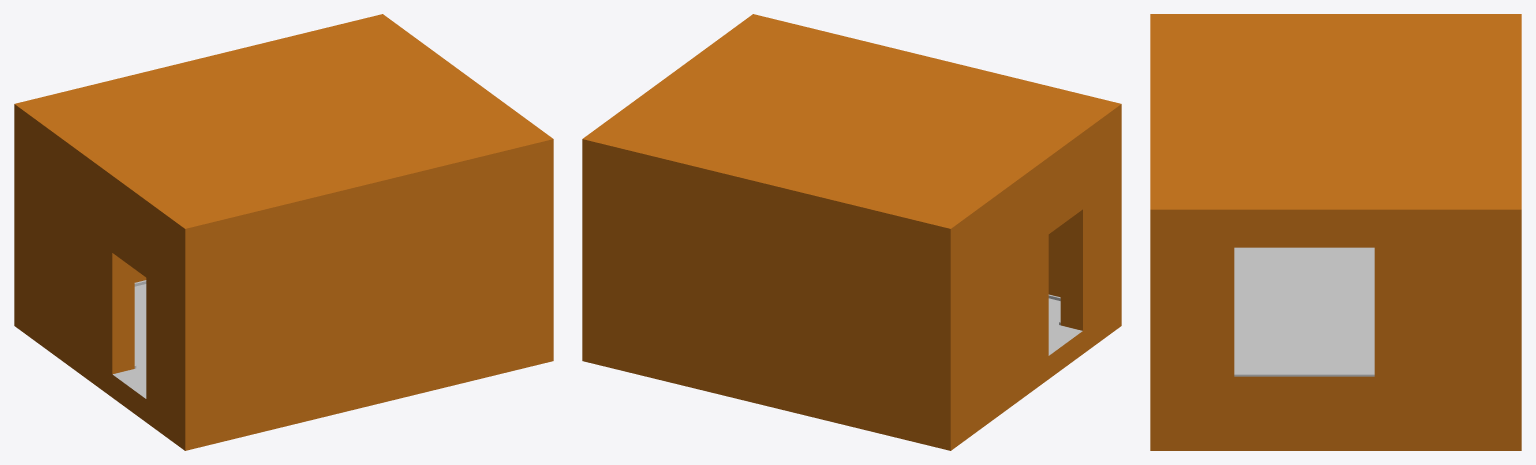
The model's file is room.fbx.
The picture shows the model from 3 angles, left to right: view 1: azimuth 30°, elevation 25°; view 2: azimuth 150°, elevation 25°; view 3: azimuth 270°, elevation 25°; orthographic projection. The views are drawn at different scales.
Parts seen in each view (by area): view 1: wall_2, wall; view 2: wall_2, wall; view 3: wall_2, wall, sill.
Part boxes in pixels (x1,y1,x2,y2): wall_2: (14, 14, 553, 450); wall: (112, 253, 146, 398); wall_2: (582, 14, 1121, 450); wall: (1048, 209, 1082, 355); wall_2: (1150, 14, 1521, 450); wall: (1234, 247, 1374, 362); sill: (1234, 362, 1374, 376).
Bounding box in the file's own units: 660 × 380 × 530.
